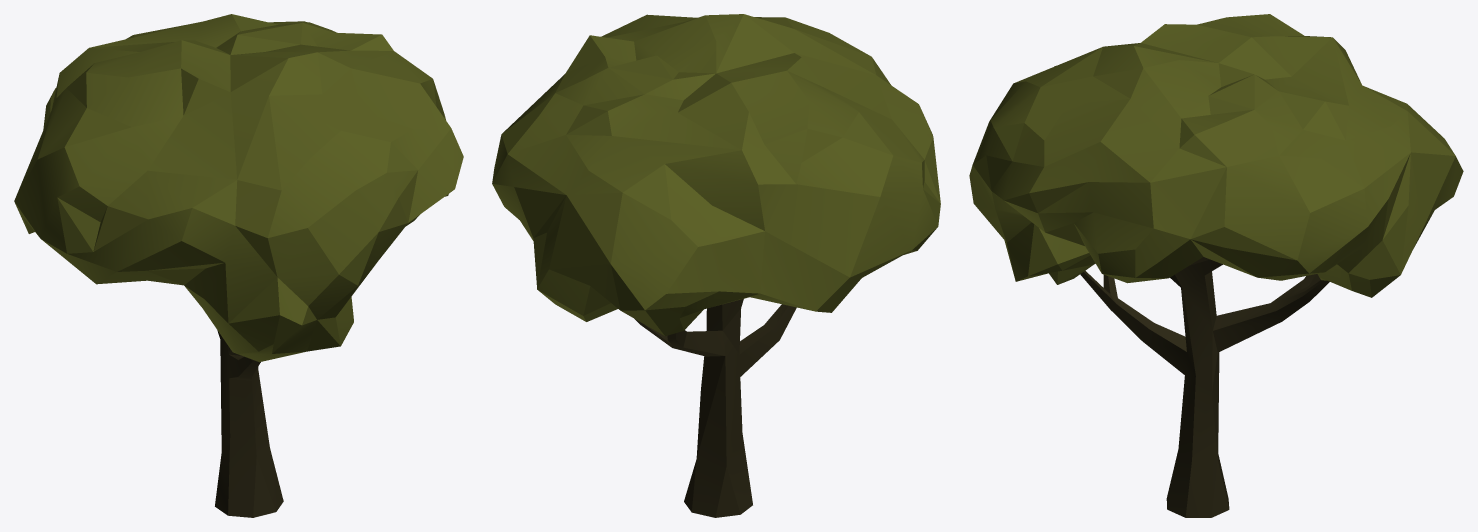
Rendered from OakC.fbx.
3 views of the same model, side by side, from view 1: azimuth 30°, elevation 25°; view 2: azimuth 150°, elevation 25°; view 3: azimuth 270°, elevation 25° (orthographic).
Visible parts, largest first — view 1: OakC; view 2: OakC; view 3: OakC.
Part boxes in pixels (bbox=[...]): OakC: bbox=[14, 14, 463, 517]; OakC: bbox=[492, 14, 940, 517]; OakC: bbox=[969, 14, 1463, 517].
Bounding box in the file's own units: 1808 × 2144 × 2078.
